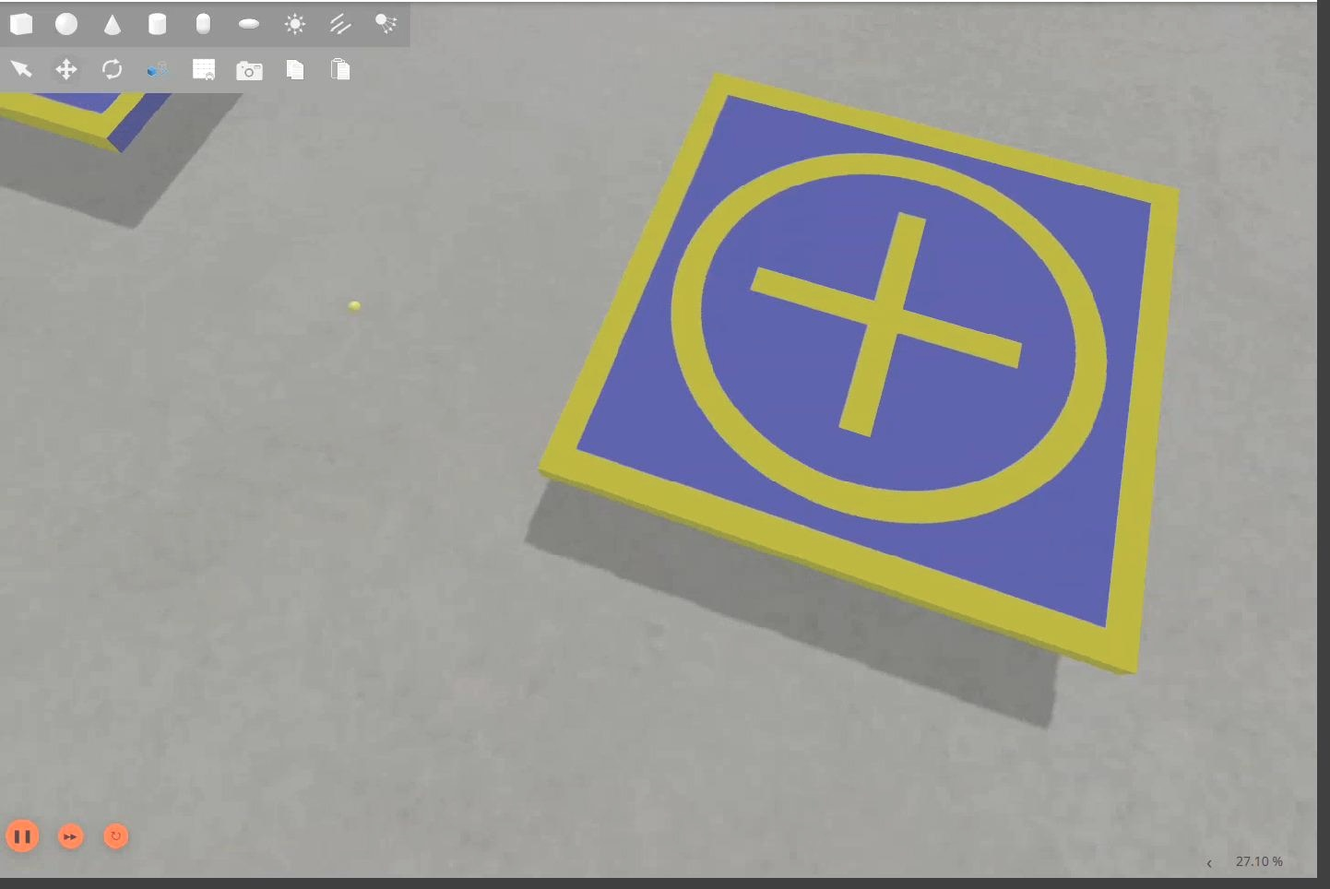small_base: (537, 70, 1184, 675)
